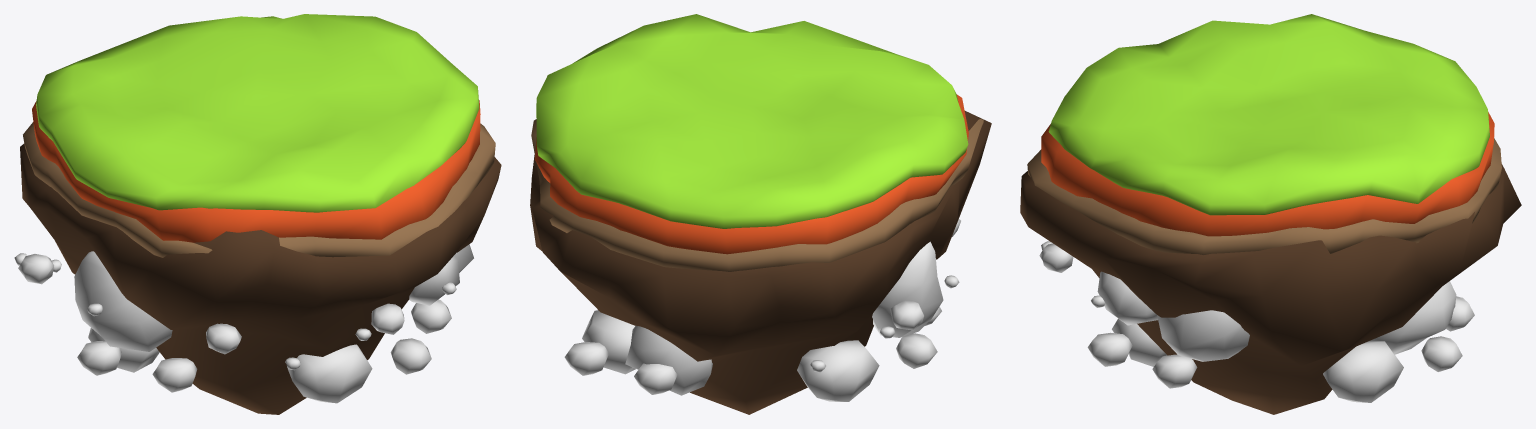
The model's file is Island.fbx.
3 views of the same model, side by side, from view 1: azimuth 30°, elevation 25°; view 2: azimuth 150°, elevation 25°; view 3: azimuth 270°, elevation 25° (orthographic). The views are drawn at different scales.
Parts seen in each view (by area): view 1: Island; view 2: Island; view 3: Island.
Part boxes in pixels (bbox=[...]): Island: bbox=[14, 14, 501, 414]; Island: bbox=[530, 14, 991, 414]; Island: bbox=[1020, 14, 1521, 414].
Bounding box in the file's own units: 6.8 × 5.36 × 7.44.
